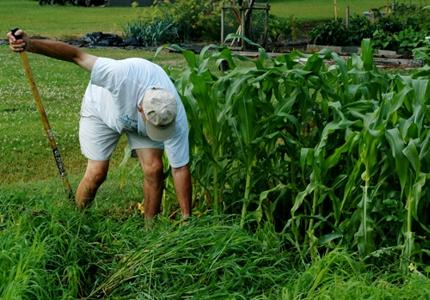person: (8, 29, 194, 234)
